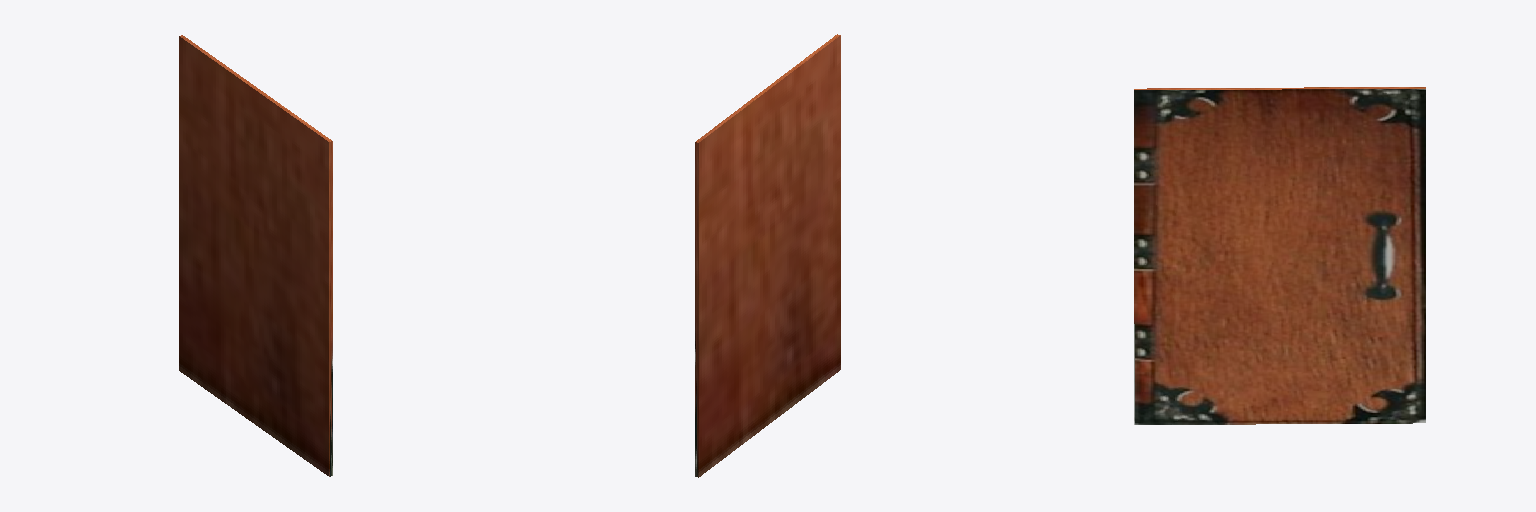
3 views of the same model, side by side, from view 1: azimuth 30°, elevation 25°; view 2: azimuth 150°, elevation 25°; view 3: azimuth 270°, elevation 25° (orthographic).
Visible parts, largest first — view 1: pCube7; view 2: pCube7; view 3: pCube7.
Boxes of the visible parts, <box> form: pCube7: <box>179,35,332,476</box>; pCube7: <box>695,34,840,477</box>; pCube7: <box>1134,87,1425,424</box>.
Bounding box in the file's own units: 0.0301 × 1.26 × 1.
Materials: 1 (1 with a texture image).